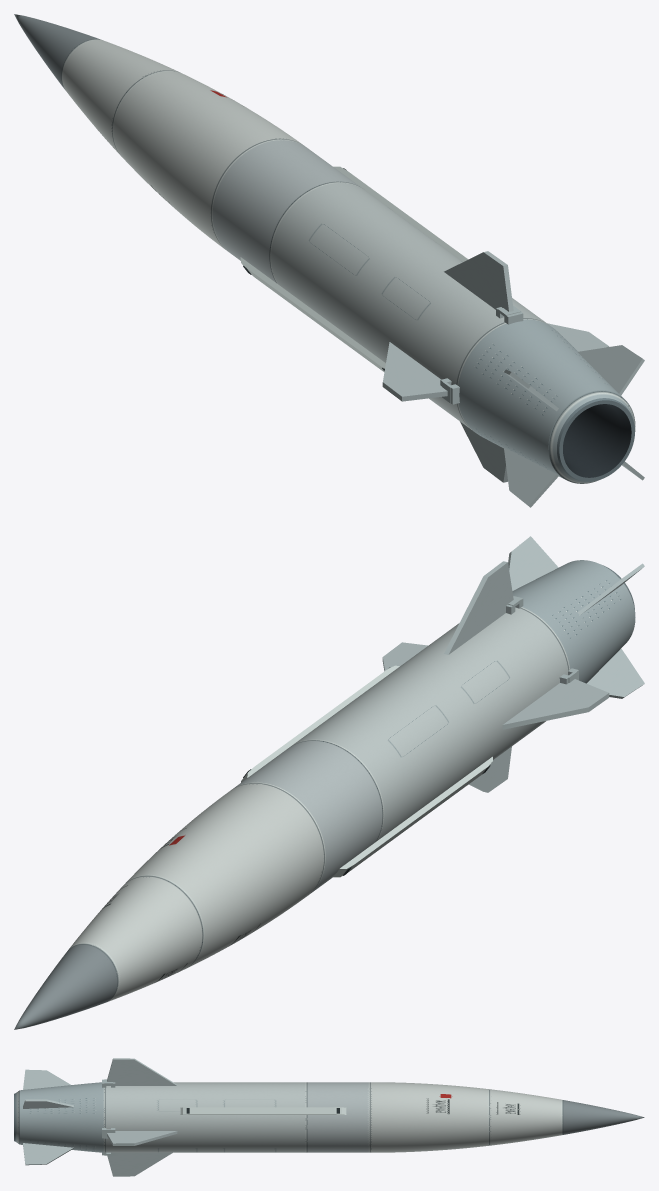
File: kinzhal.obj
3 views of the same model, one above another, from view 1: azimuth 30°, elevation 25°; view 2: azimuth 150°, elevation 25°; view 3: azimuth 270°, elevation 25° (orthographic). The views are drawn at different scales.
Parts seen in each view (by area): view 1: body_shell, main_fin, auxiliary_fin, nozzle_recess, longitudinal_fairing, nozzle_shoulder, nozzle_rim; view 2: body_shell, main_fin, auxiliary_fin, longitudinal_fairing; view 3: body_shell, main_fin, auxiliary_fin, longitudinal_fairing, nozzle_shoulder.
Part boxes in pixels (x1=…): body_shell: x1=14, y1=14, x2=621, y2=478; main_fin: x1=382, y1=251, x2=609, y2=482; auxiliary_fin: x1=503, y1=345, x2=644, y2=507; nozzle_recess: x1=563, y1=404, x2=631, y2=477; longitudinal_fairing: x1=240, y1=166, x2=468, y2=371; nozzle_shoulder: x1=548, y1=390, x2=635, y2=483; nozzle_rim: x1=557, y1=398, x2=634, y2=481; body_shell: x1=14, y1=560, x2=635, y2=1029; main_fin: x1=382, y1=561, x2=609, y2=792; auxiliary_fin: x1=508, y1=536, x2=644, y2=698; longitudinal_fairing: x1=241, y1=665, x2=492, y2=877; body_shell: x1=19, y1=1082, x2=644, y2=1152; main_fin: x1=106, y1=1058, x2=177, y2=1176; auxiliary_fin: x1=23, y1=1069, x2=73, y2=1165; longitudinal_fairing: x1=180, y1=1107, x2=346, y2=1114; nozzle_shoulder: x1=15, y1=1090, x2=19, y2=1144.
Bounding box in the file's own units: 2.05 × 2.05 × 10.
1 material, 1 textured.
